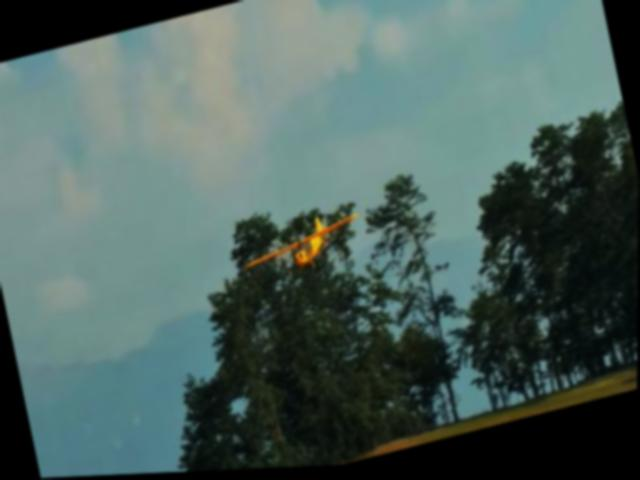uav: (237, 208, 372, 291)
